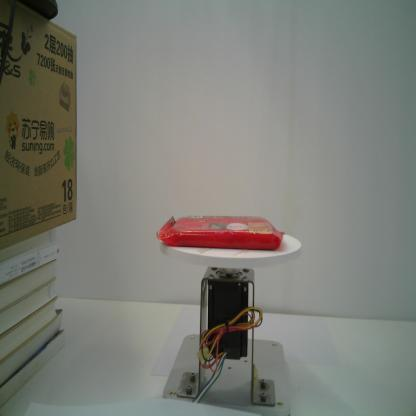Dessert: (155, 215, 287, 252)
